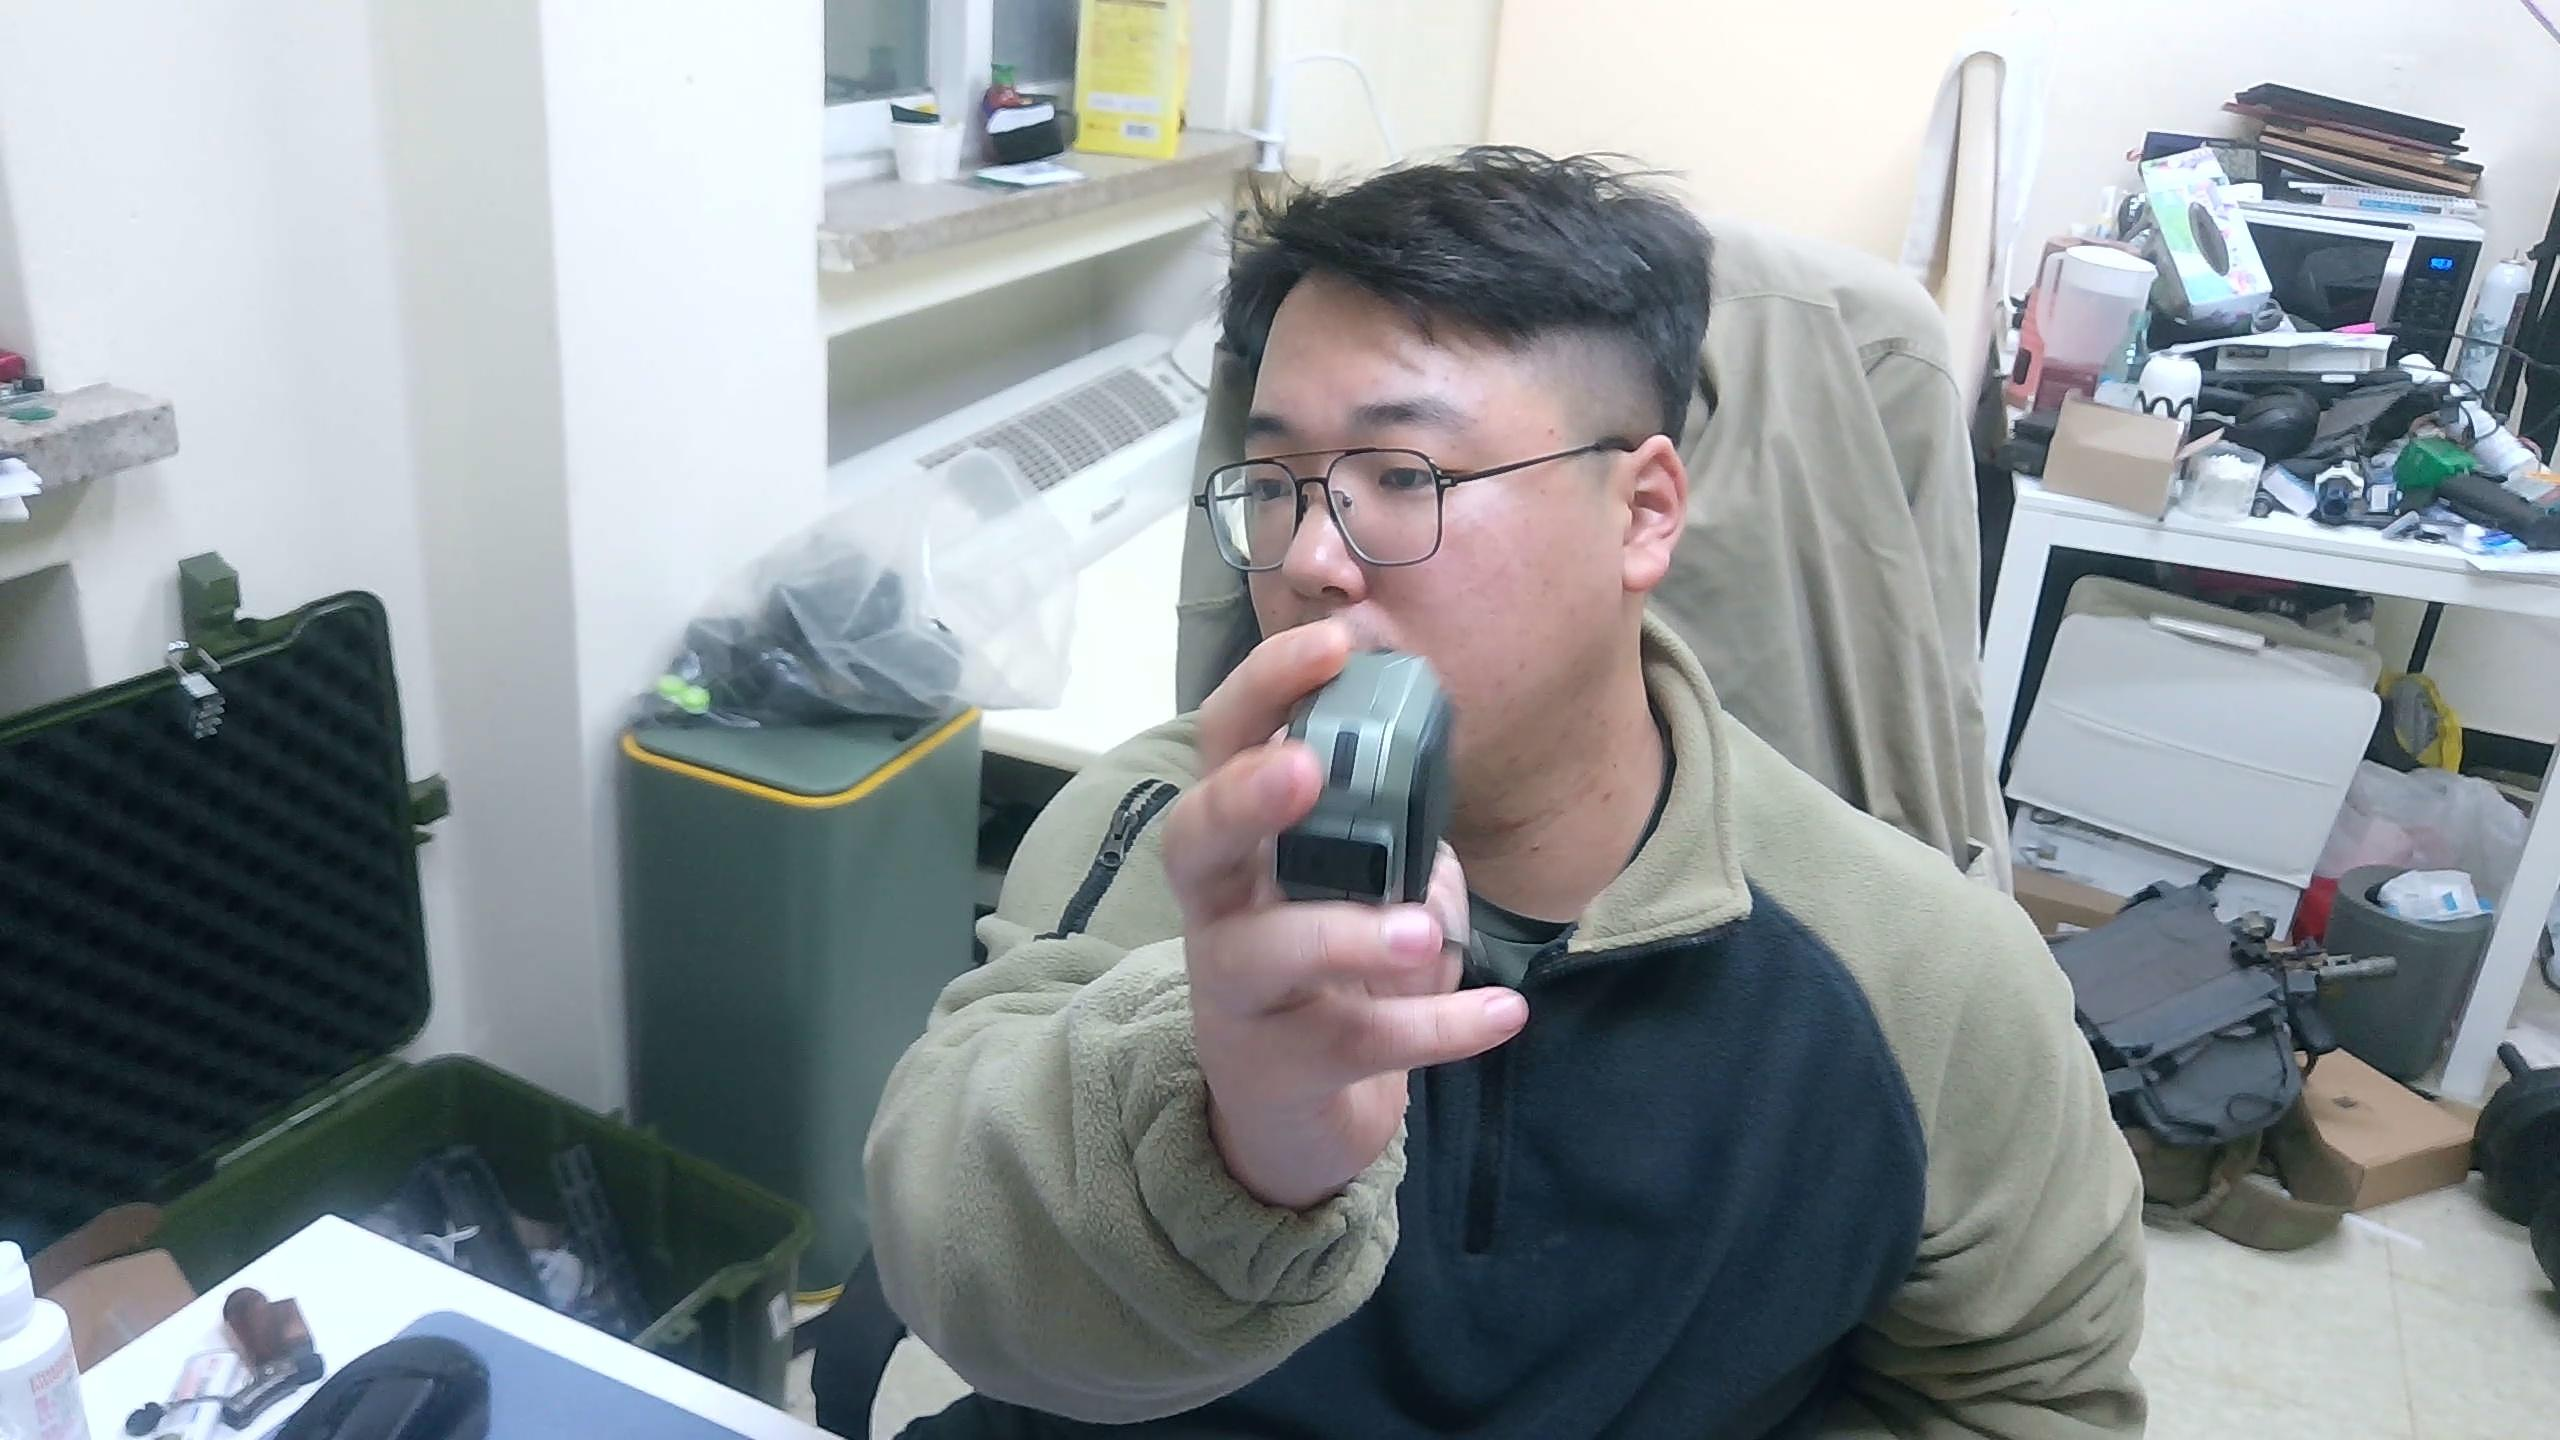blue_pliers: (1271, 645, 1458, 911)
